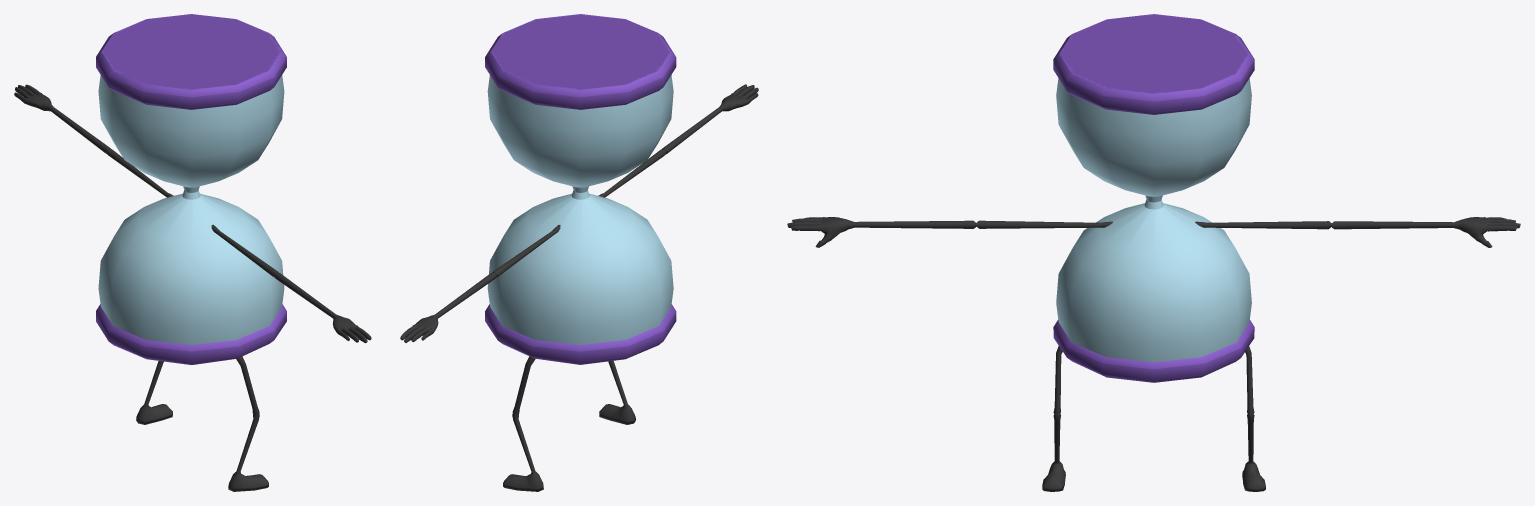
The model's file is HourglassPerson.fbx.
3 renders of one model, left to right at view 1: azimuth 30°, elevation 25°; view 2: azimuth 150°, elevation 25°; view 3: azimuth 270°, elevation 25°, orthographic. The views are drawn at different scales.
Visible parts, largest first — view 1: _100Avatars_181_HourglassPerson; view 2: _100Avatars_181_HourglassPerson; view 3: _100Avatars_181_HourglassPerson.
Part boxes in pixels (box(x1,y1,x2,y2)): _100Avatars_181_HourglassPerson: box(14, 14, 371, 491); _100Avatars_181_HourglassPerson: box(400, 14, 758, 491); _100Avatars_181_HourglassPerson: box(787, 14, 1520, 491).
Bounding box in the file's own units: 1.27 × 2.96 × 4.64.
Materials: 1 (1 with a texture image).
